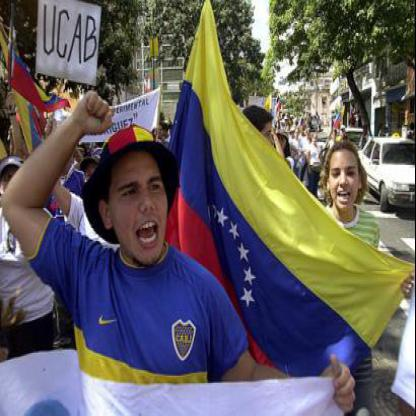face: (110, 135, 172, 269), (330, 145, 361, 214)
